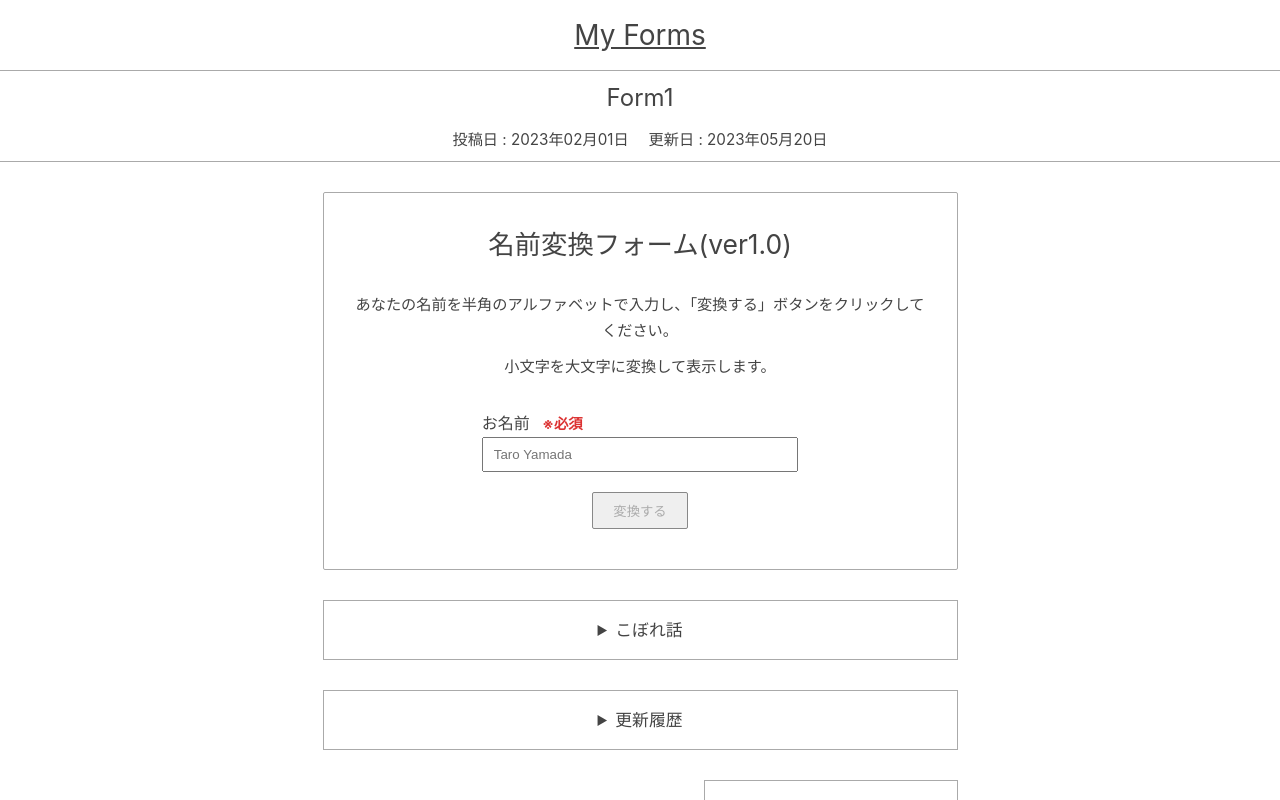
Form1 › フォームに名前を入力した時、各要素が正しい状態に変化すること › 名前を入力した時、変換ボタンのdisabledが解除されること
Type "kento" into the field labelled "お名前 ※必須" at (640, 454), box [482, 436, 798, 472]
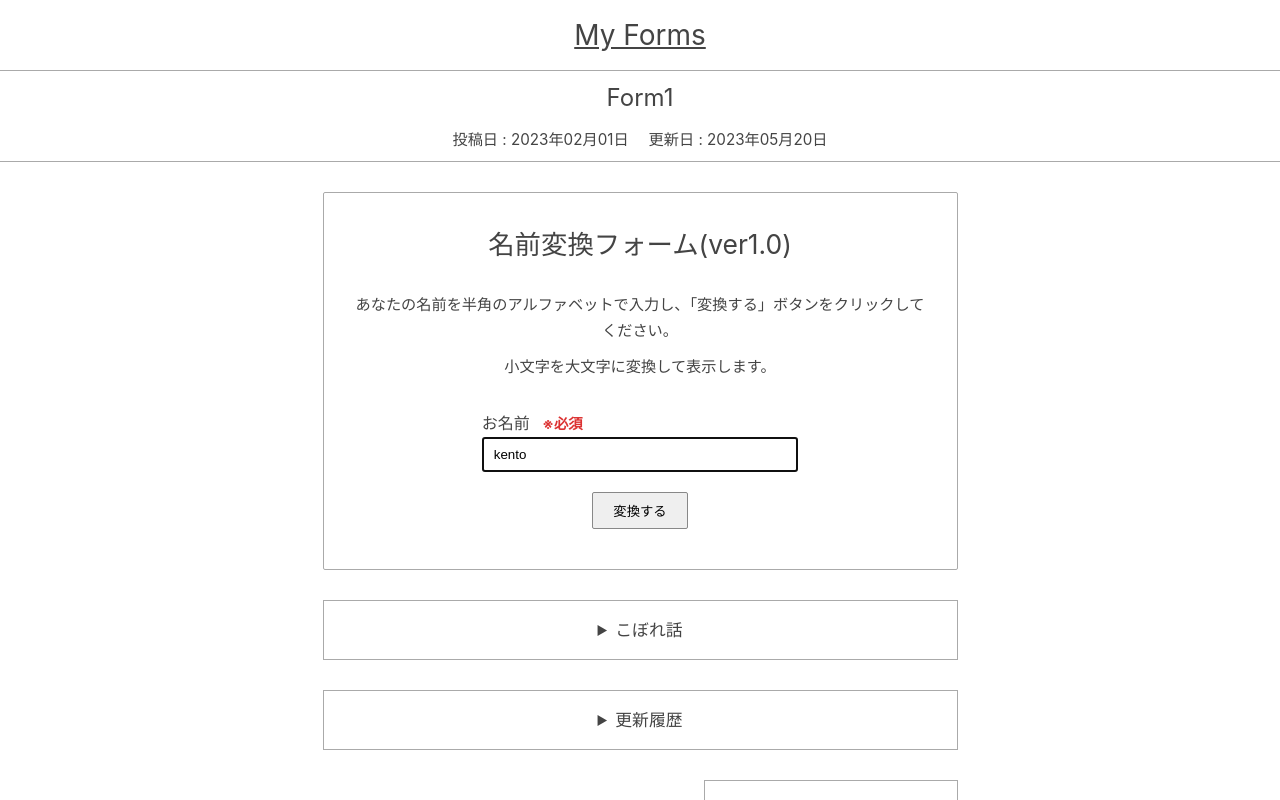
Check: the button "変換する" is enabled, box [592, 492, 688, 528]
